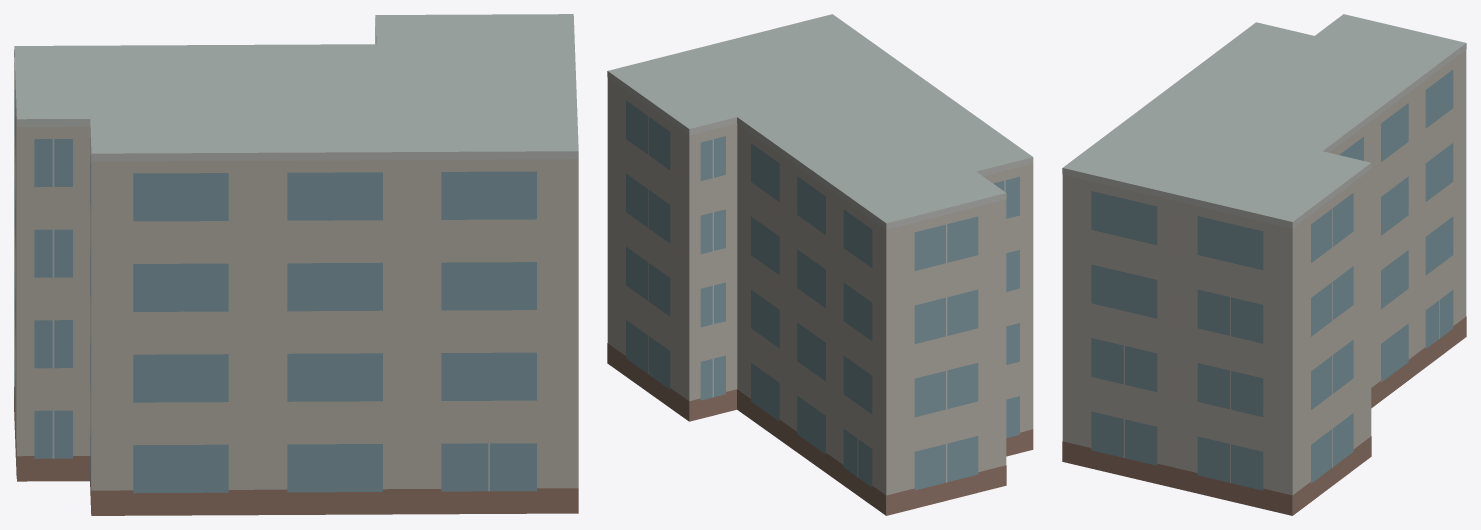
The model's file is survey-upis-32556660.glb.
The picture shows the model from 3 angles, left to right: view 1: azimuth 30°, elevation 25°; view 2: azimuth 150°, elevation 25°; view 3: azimuth 270°, elevation 25°; orthographic projection. The views are drawn at different scales.
Visible parts, largest first — view 1: survey-upis-32556660.tmp; view 2: survey-upis-32556660.tmp; view 3: survey-upis-32556660.tmp.
Part boxes in pixels (left/top/right/bottom): survey-upis-32556660.tmp: left=14, top=14, right=578, bottom=515; survey-upis-32556660.tmp: left=607, top=14, right=1033, bottom=515; survey-upis-32556660.tmp: left=1062, top=14, right=1466, bottom=515.
Bounding box in the file's own units: 16.98 × 11.18 × 13.94.
